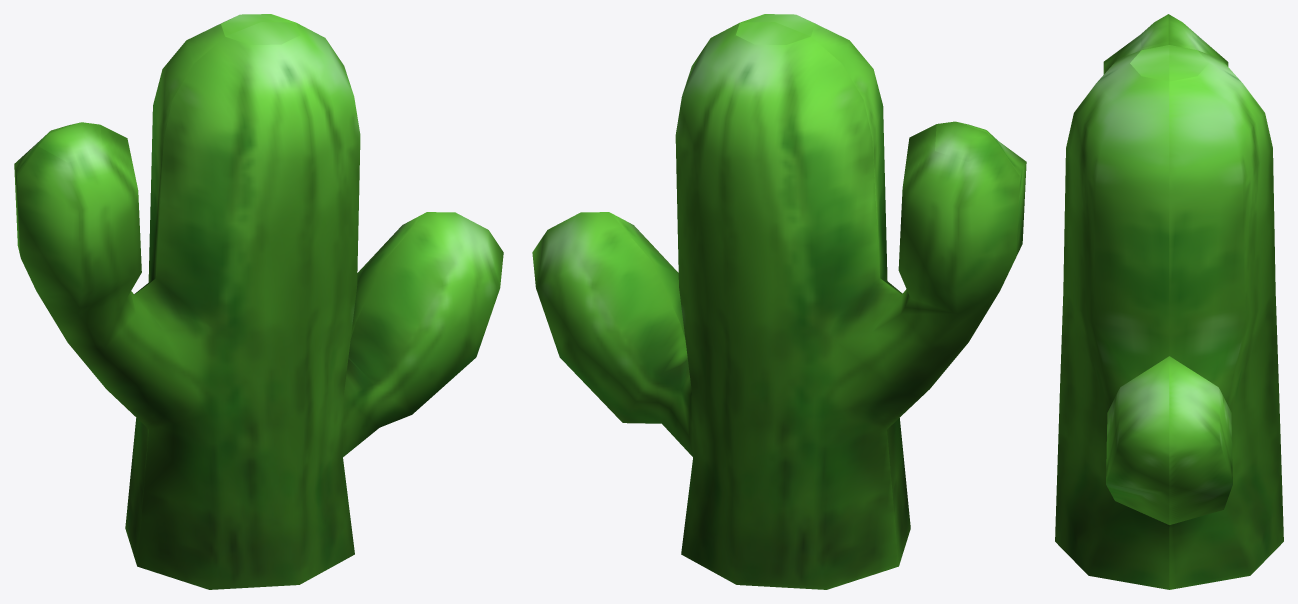
Rendered from cactus.FBX.
The picture shows the model from 3 angles, left to right: view 1: azimuth 30°, elevation 25°; view 2: azimuth 150°, elevation 25°; view 3: azimuth 270°, elevation 25°; orthographic projection. The views are drawn at different scales.
Parts seen in each view (by area): view 1: polySurface1; view 2: polySurface1; view 3: polySurface1.
Part boxes in pixels (x1,y1,x2,y2): polySurface1: (14, 14, 503, 589); polySurface1: (532, 14, 1026, 589); polySurface1: (1055, 14, 1283, 589).
Size of the model in its own units: 240 by 242 by 102.
